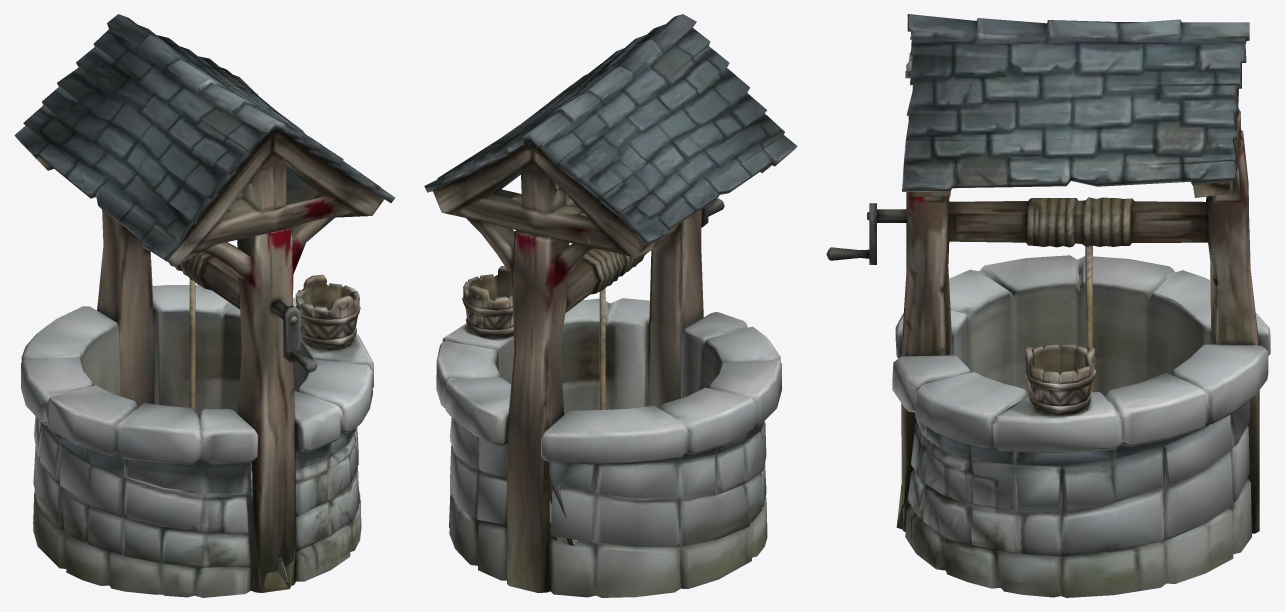
File: obj_well.glb
The picture shows the model from 3 angles, left to right: view 1: azimuth 30°, elevation 25°; view 2: azimuth 150°, elevation 25°; view 3: azimuth 270°, elevation 25°; orthographic projection. The views are drawn at different scales.
Visible parts, largest first — view 1: model; view 2: model; view 3: model.
Boxes of the visible parts, box(x1,y1,x2,y2) form: model: box(14, 14, 395, 597); model: box(424, 14, 797, 597); model: box(826, 14, 1270, 597).
Size of the model in its own units: 0.6869 by 1 by 0.7926.
Materials: 1 (1 with a texture image).
